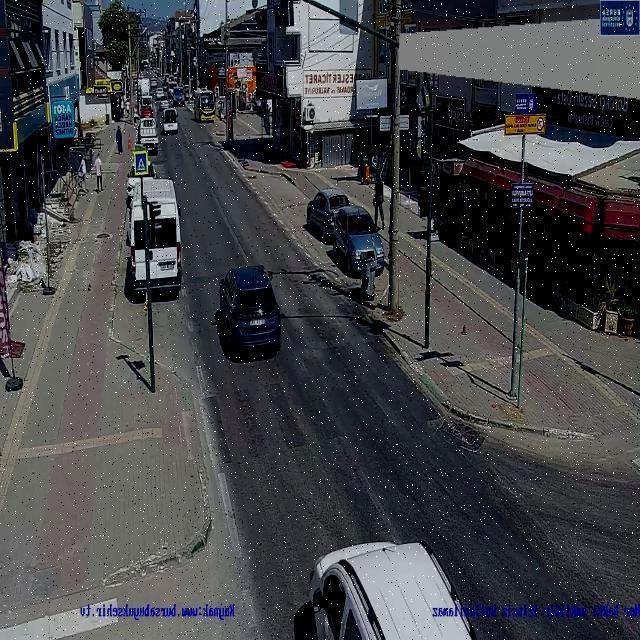Bus: (193, 89, 217, 124)
Car: (296, 540, 485, 638), (215, 264, 286, 353), (330, 206, 384, 277), (306, 189, 353, 243)
Truck: (138, 118, 159, 154)
Van: (127, 180, 187, 298)
